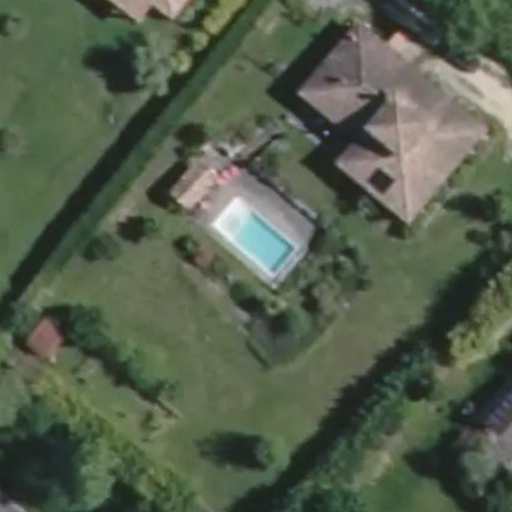pool: (211, 195, 296, 281)
